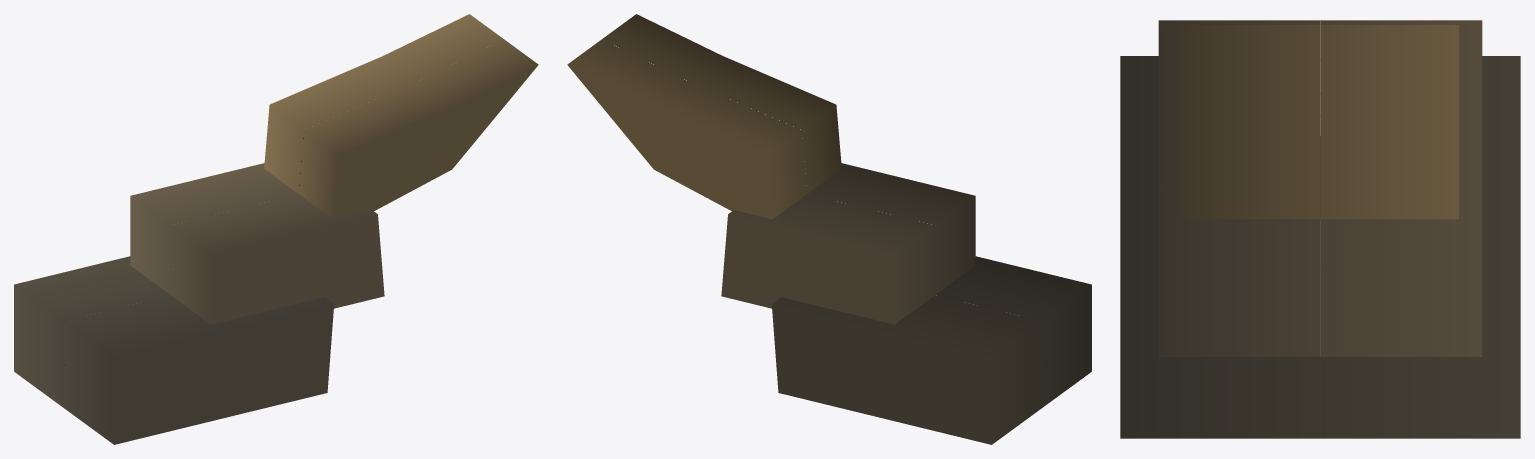
The model's file is burrow.glb.
3 views of the same model, side by side, from view 1: azimuth 30°, elevation 25°; view 2: azimuth 150°, elevation 25°; view 3: azimuth 270°, elevation 25° (orthographic). The views are drawn at different scales.
Parts seen in each view (by area): view 1: burrow; view 2: burrow; view 3: burrow.
Part boxes in pixels (x1,y1,x2,y2): burrow: (14,14,538,444); burrow: (567,14,1091,444); burrow: (1120,20,1520,438).
Bounding box in the file's own units: 0.66 × 0.375 × 0.26.
